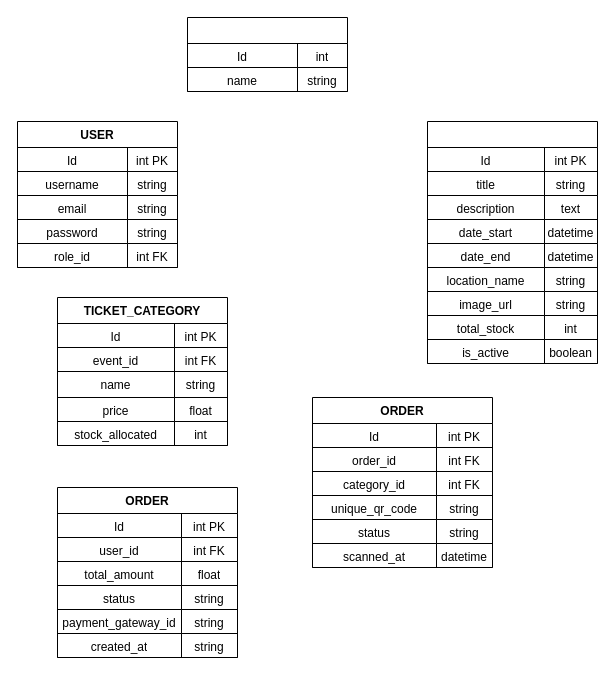
Some shapes in this 615 by 678 pixel diagram are drawn without their labels. Each missing label, with the box of its shape:
EVENT: (426, 120, 598, 364)
ROLE: (186, 16, 348, 92)
